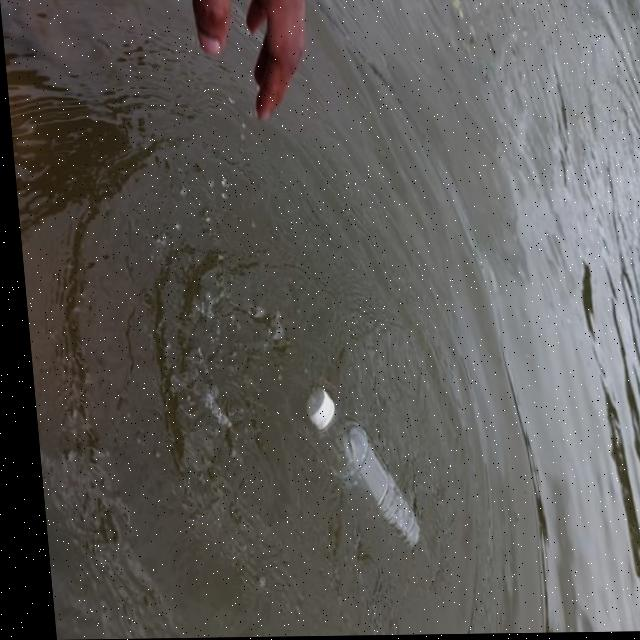waterbottle: (292, 364, 424, 594)
